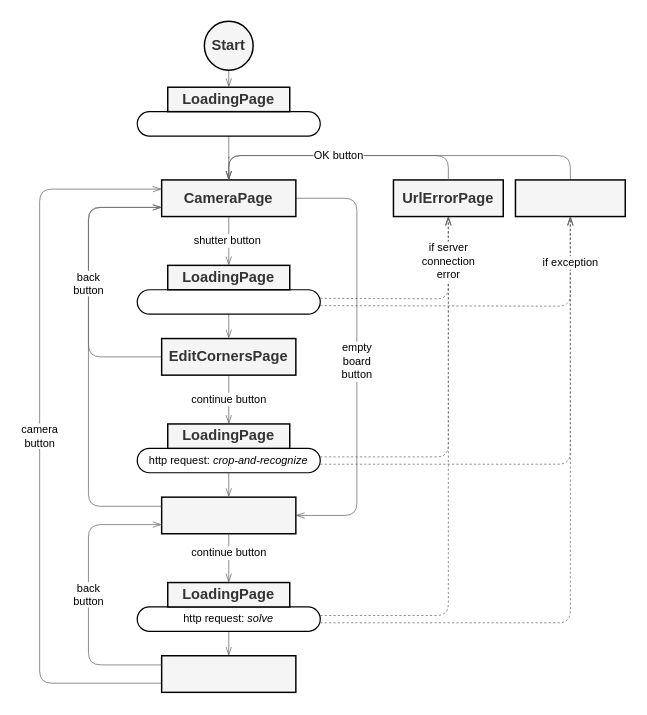
Image size: 647x715. Some labels were removed from this diagram. The centre of each missing label's shape, as x and y in pixels:
"EditBoardPage" goes at point (228, 515).
"ErrorPage" goes at point (569, 198).
"http request: find-corners" goes at point (228, 301).
"http request: info" goes at point (228, 123).
"SummaryPage" goes at point (228, 673).
